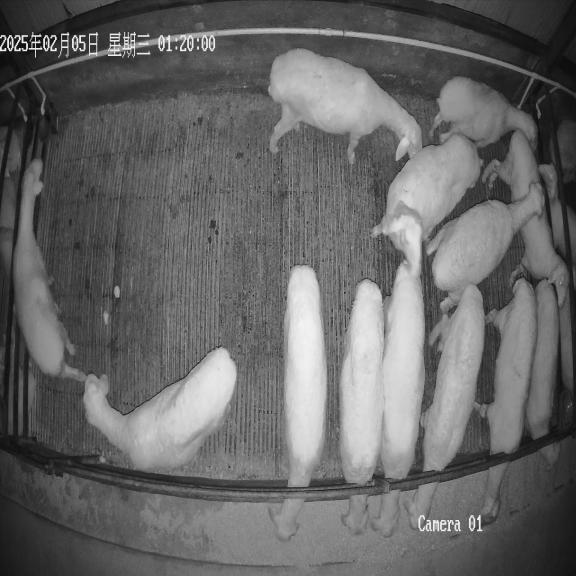eating: (401, 284, 485, 528), (268, 265, 327, 541), (473, 278, 537, 524), (371, 261, 425, 537), (339, 279, 384, 534), (524, 279, 559, 470)
stand: (83, 347, 236, 472), (268, 48, 422, 164), (13, 160, 86, 381), (370, 134, 482, 277), (482, 130, 568, 305), (426, 184, 542, 312), (430, 76, 537, 147)
